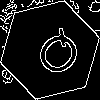Q: (25, 25, 87, 87)
